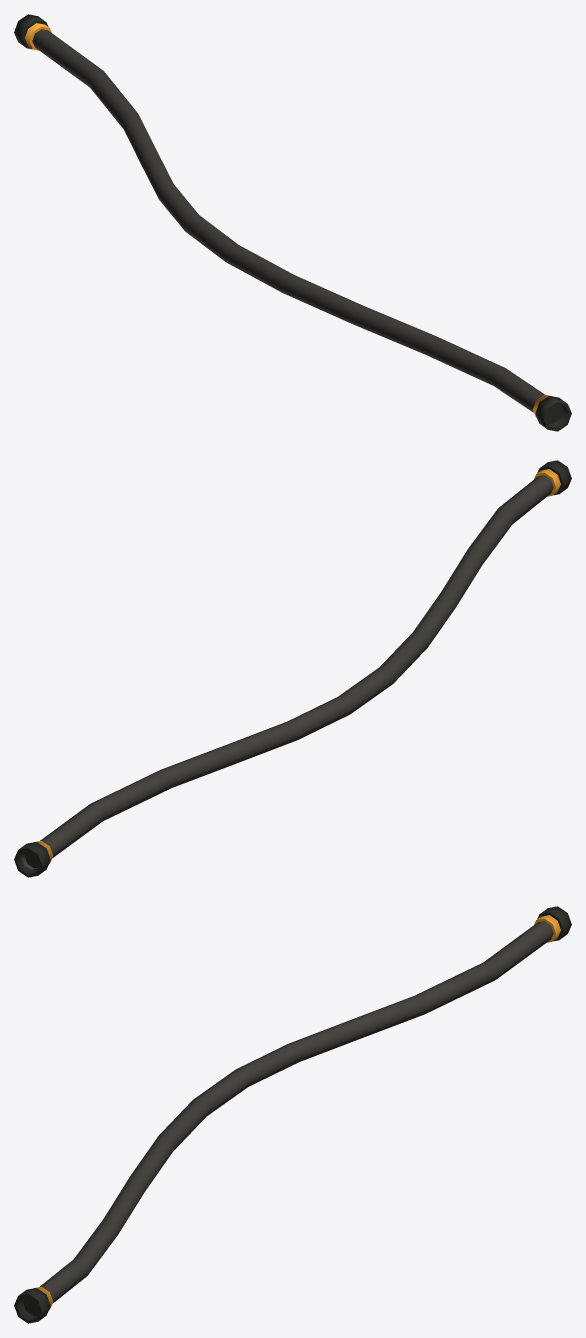
File: Cable_4M_03.glb
The picture shows the model from 3 angles, top to bottom: view 1: azimuth 30°, elevation 25°; view 2: azimuth 150°, elevation 25°; view 3: azimuth 330°, elevation 25°; orthographic projection.
Parts seen in each view (by area): view 1: Cable_4M_03; view 2: Cable_4M_03; view 3: Cable_4M_03.
Boxes of the visible parts, x1=… form: Cable_4M_03: x1=14, y1=14, x2=571, y2=431; Cable_4M_03: x1=14, y1=460, x2=571, y2=877; Cable_4M_03: x1=14, y1=906, x2=571, y2=1323.
Size of what is drawn, in the model's own units: 0.4377 by 0.1235 by 4.
Materials: 1 (1 with a texture image).
